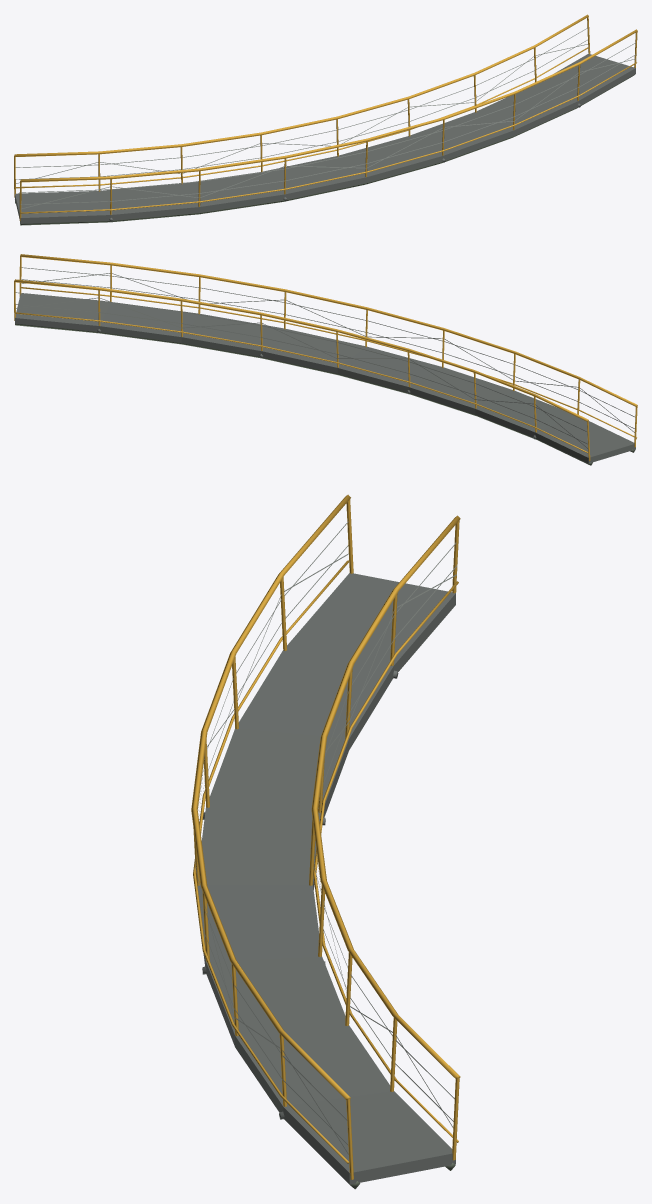
File: sg-skyway-segment.glb
The picture shows the model from 3 angles, top to bottom: view 1: azimuth 30°, elevation 25°; view 2: azimuth 150°, elevation 25°; view 3: azimuth 270°, elevation 25°; orthographic projection. The views are drawn at different scales.
Parts seen in each view (by area): view 1: Skyway | curved modular steel deck, Skyway | amber handrails and safety mesh; view 2: Skyway | curved modular steel deck, Skyway | amber handrails and safety mesh; view 3: Skyway | curved modular steel deck, Skyway | amber handrails and safety mesh.
Boxes of the visible parts, <box> form: Skyway | curved modular steel deck: <box>15,54,635,225</box>; Skyway | amber handrails and safety mesh: <box>14,14,637,220</box>; Skyway | curved modular steel deck: <box>15,293,635,465</box>; Skyway | amber handrails and safety mesh: <box>14,254,637,461</box>; Skyway | curved modular steel deck: <box>197,573,455,1189</box>; Skyway | amber handrails and safety mesh: <box>191,494,460,1179</box>.
Size of the model in its own units: 20.16 by 1.68 by 3.81.
